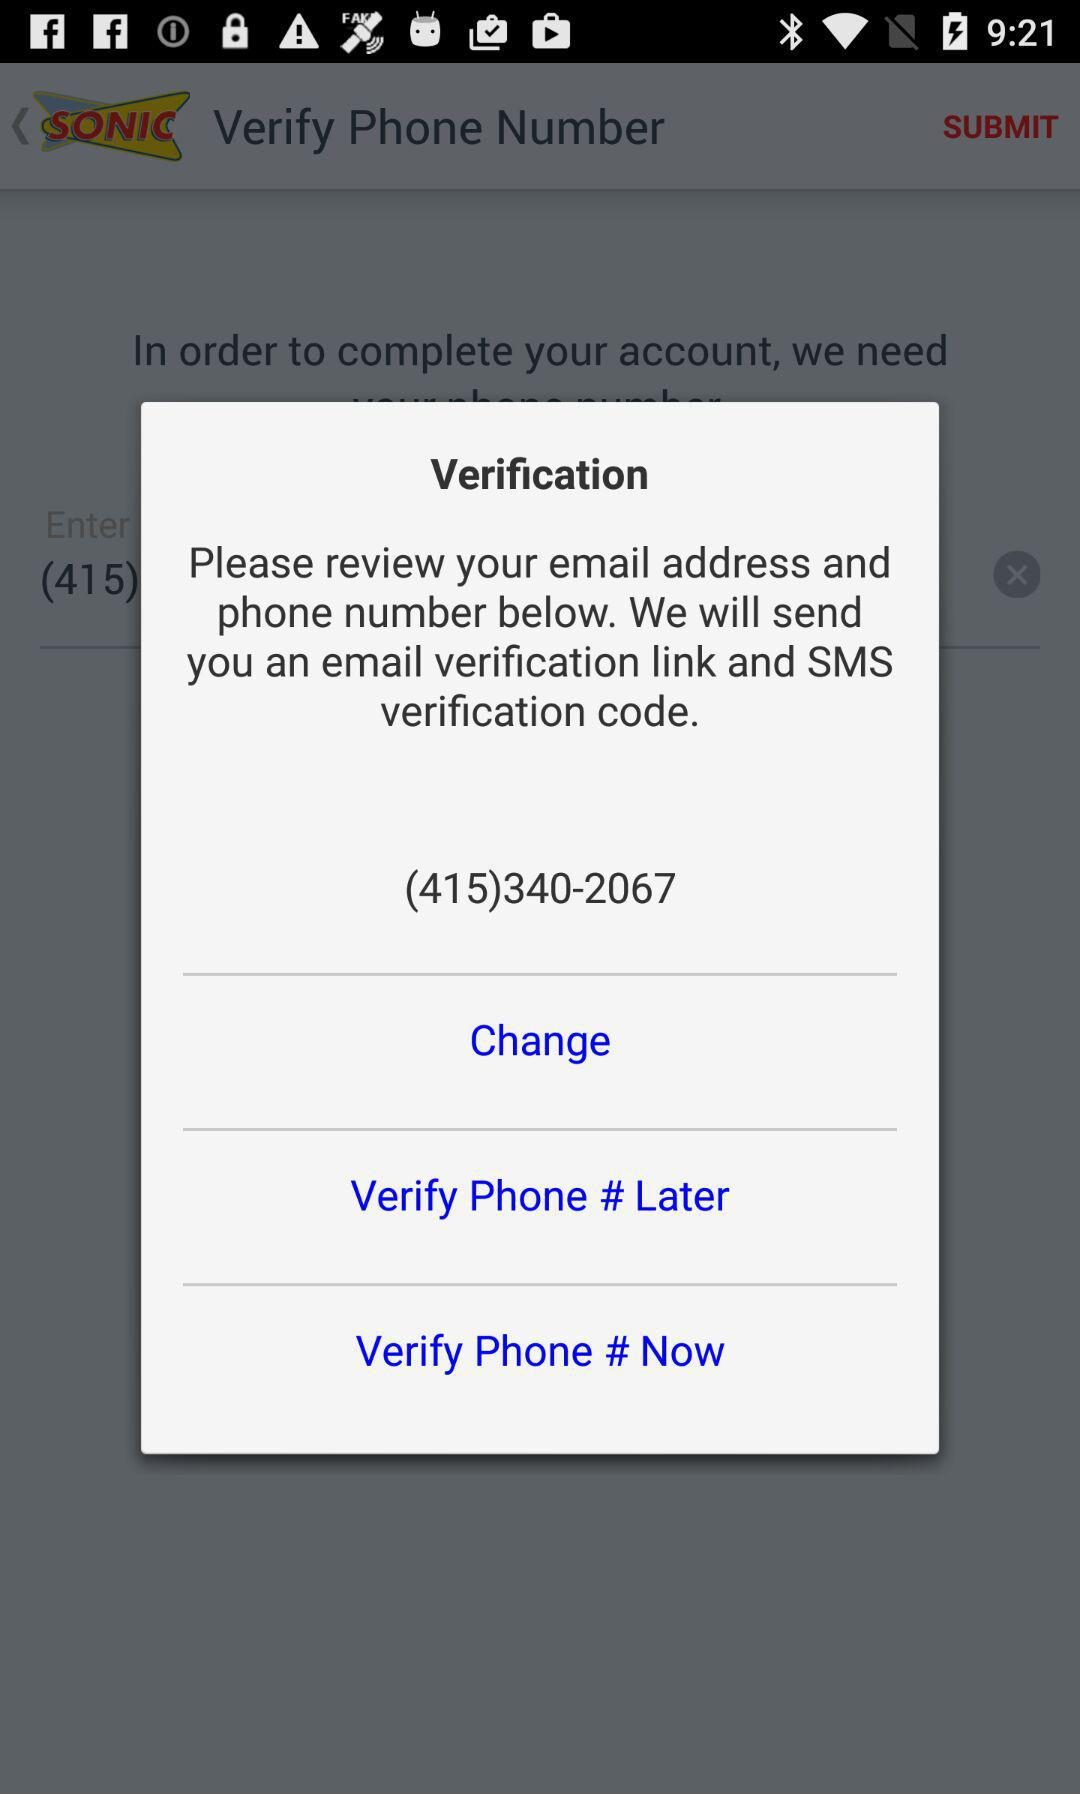Icon: (993, 551, 1040, 600), (12, 108, 29, 147)
Image: (33, 92, 191, 164)
Modal: (141, 402, 940, 1454)
Text: (186, 545, 893, 730), (135, 334, 945, 373), (215, 108, 665, 158), (356, 1331, 726, 1378), (351, 1178, 732, 1221), (405, 868, 678, 915), (430, 455, 650, 492), (470, 1023, 612, 1066), (42, 560, 138, 606), (942, 114, 1060, 140), (47, 511, 131, 539)
UpperTaskBar: (1, 1, 1080, 64)
